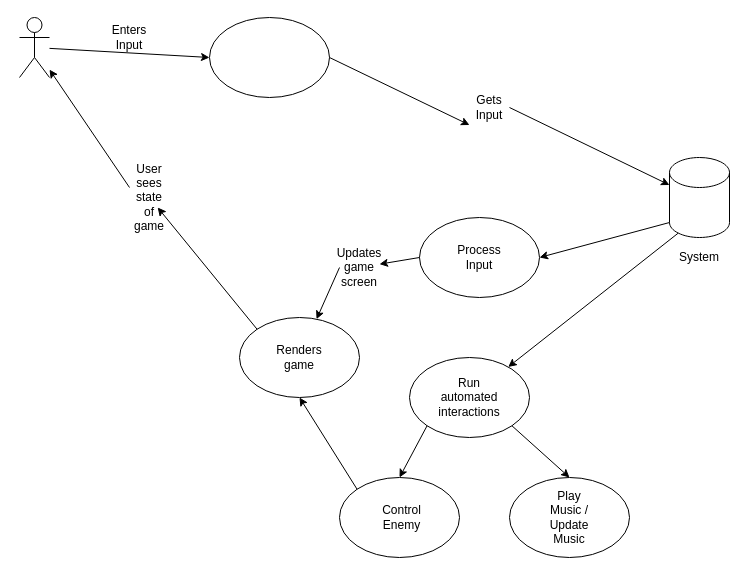
Image size: 747x575. Some labels were removed from this diagram. The shapes that lost their labels are listed below. From the top down, each one's centre as x and y in pixels, then its label:
At pixel 34 47: "Player".
At pixel 269 57: "Enter Input".
